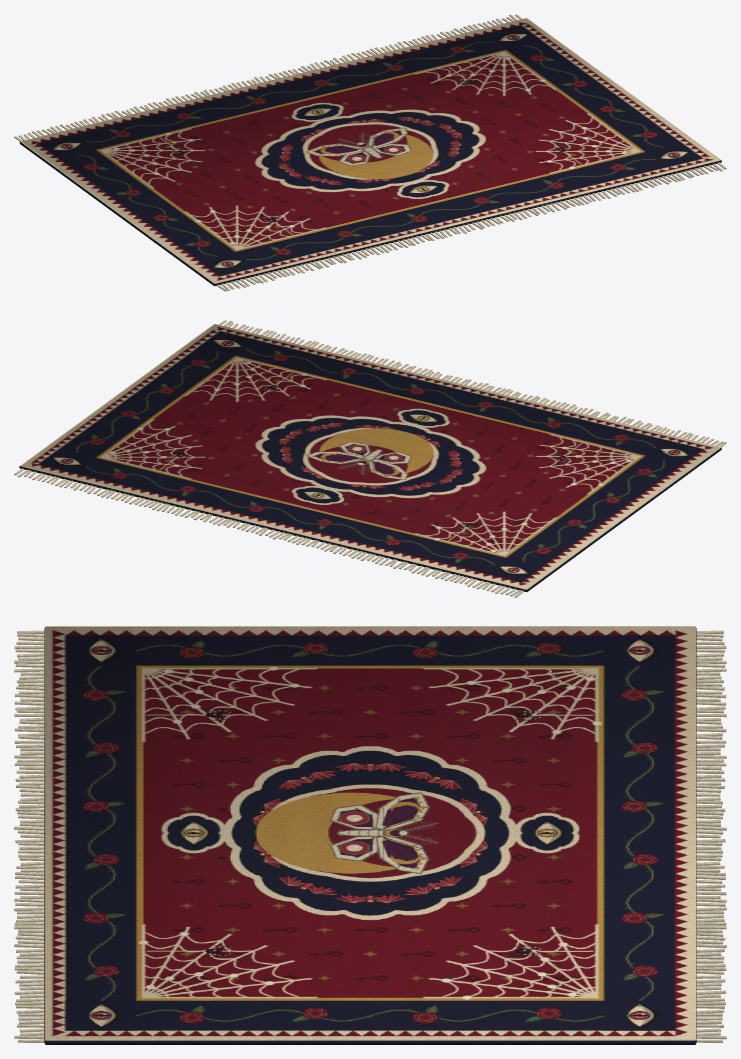
Rendered from MothMedallionRug.fbx.
3 views of the same model, one above another, from view 1: azimuth 30°, elevation 25°; view 2: azimuth 150°, elevation 25°; view 3: azimuth 270°, elevation 25° (orthographic). The views are drawn at different scales.
Parts seen in each view (by area): view 1: MothMedallionRug; view 2: MothMedallionRug; view 3: MothMedallionRug.
Part boxes in pixels (<box>): MothMedallionRug: <box>14,14,726,291</box>; MothMedallionRug: <box>14,320,726,597</box>; MothMedallionRug: <box>14,626,726,1044</box>.
Size of the model in its own units: 1207 by 6 by 875.
